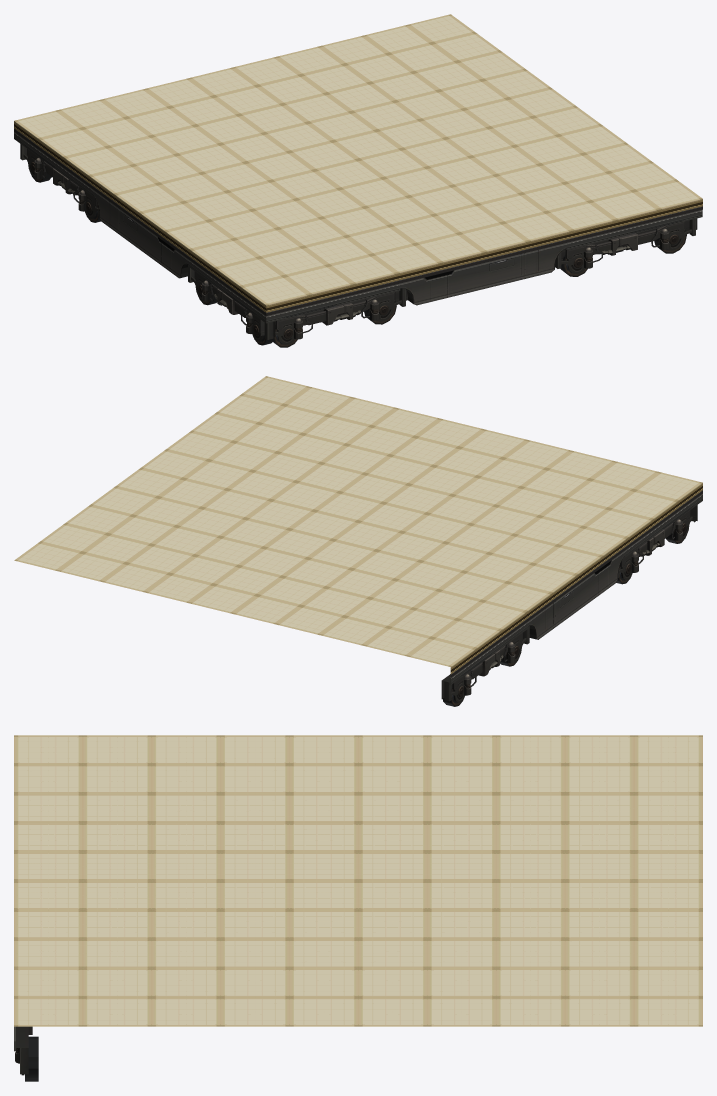
File: my_highlander_01_tile_20x20.glb
3 views of the same model, one above another, from view 1: azimuth 30°, elevation 25°; view 2: azimuth 150°, elevation 25°; view 3: azimuth 270°, elevation 25° (orthographic). The views are drawn at different scales.
Visible parts, largest first — view 1: my_highlander_01_tile_20x20; view 2: my_highlander_01_tile_20x20; view 3: my_highlander_01_tile_20x20.
Boxes of the visible parts, x1,y1,x2,y2 form: my_highlander_01_tile_20x20: (14,14,702,347); my_highlander_01_tile_20x20: (14,376,702,706); my_highlander_01_tile_20x20: (14,735,702,1081).
Size of the model in its own units: 0.12 by 0.0135 by 0.12.
1 material, 1 textured.
